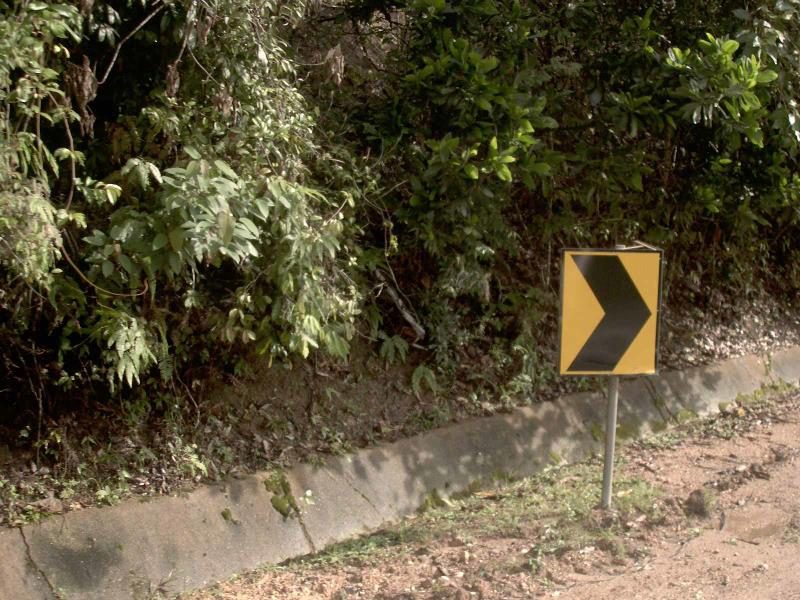traffic_sign: (545, 229, 673, 395)
